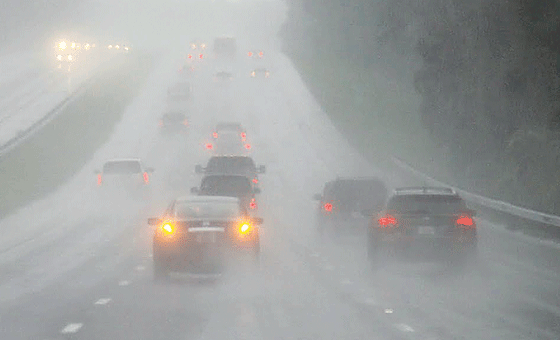car: (145, 197, 262, 277), (371, 187, 480, 256), (318, 177, 386, 237), (192, 177, 260, 209), (192, 156, 264, 182), (97, 158, 147, 189), (205, 140, 253, 159), (207, 120, 251, 140), (156, 111, 189, 132), (167, 84, 192, 102), (211, 69, 232, 88), (249, 64, 270, 80), (245, 44, 264, 57)
truck: (212, 35, 238, 67)
